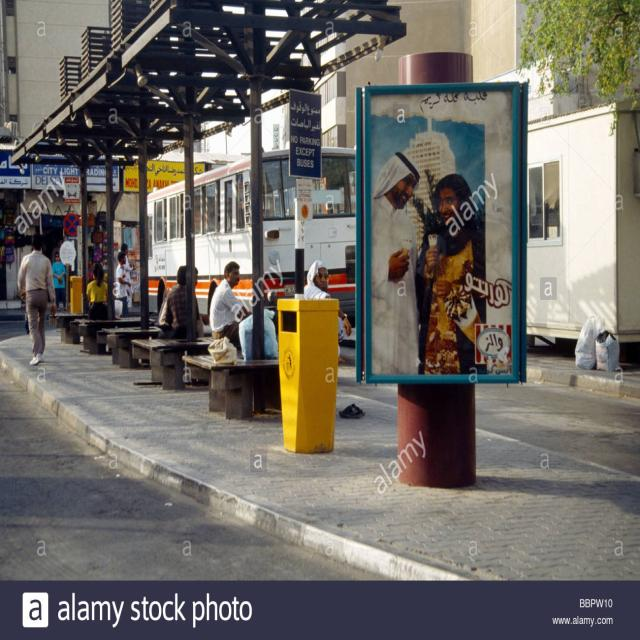body: (370, 144, 496, 376), (15, 230, 57, 367), (302, 258, 352, 364), (209, 260, 253, 350), (157, 264, 187, 340), (159, 264, 188, 340), (85, 262, 108, 337), (191, 199, 231, 235), (115, 251, 131, 318), (50, 250, 66, 314), (120, 242, 134, 312), (24, 306, 31, 335)
